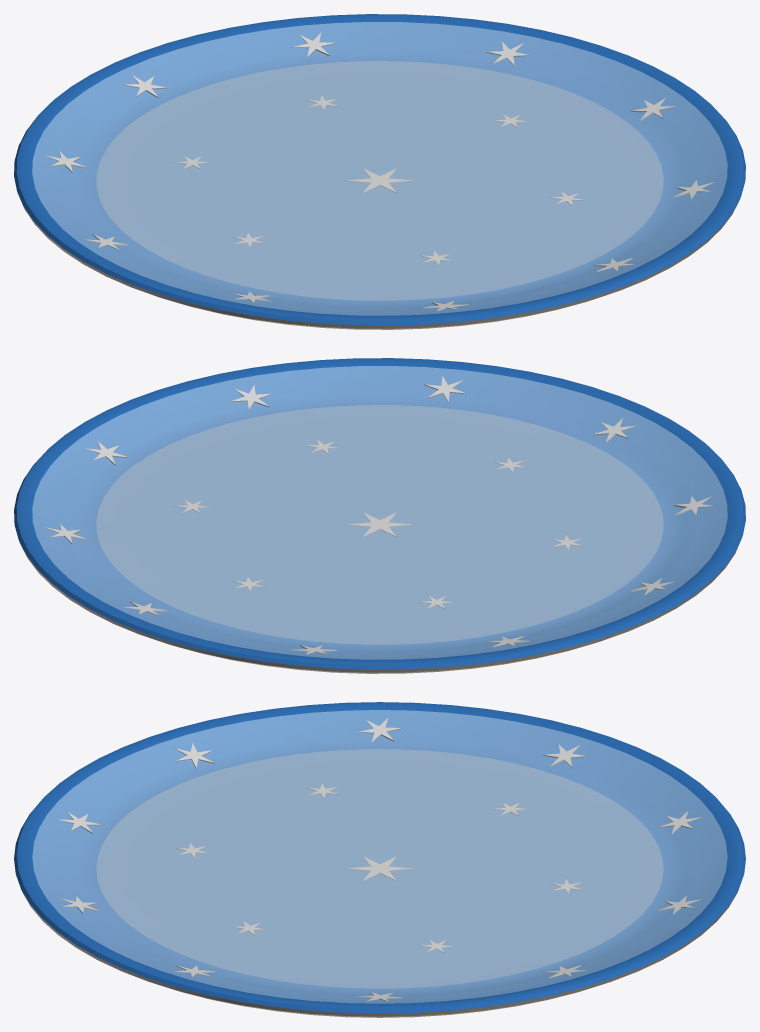
Rendered from plate_snowflake.glb.
3 views of the same model, one above another, from view 1: azimuth 30°, elevation 25°; view 2: azimuth 150°, elevation 25°; view 3: azimuth 270°, elevation 25° (orthographic).
Parts seen in each view (by area): view 1: body; view 2: body; view 3: body.
Boxes of the visible parts, x1=… form: body: x1=14, y1=14, x2=745, y2=329; body: x1=14, y1=358, x2=745, y2=673; body: x1=14, y1=702, x2=745, y2=1017.
Bounding box in the file's own units: 1.6 × 0.0939 × 1.6.
